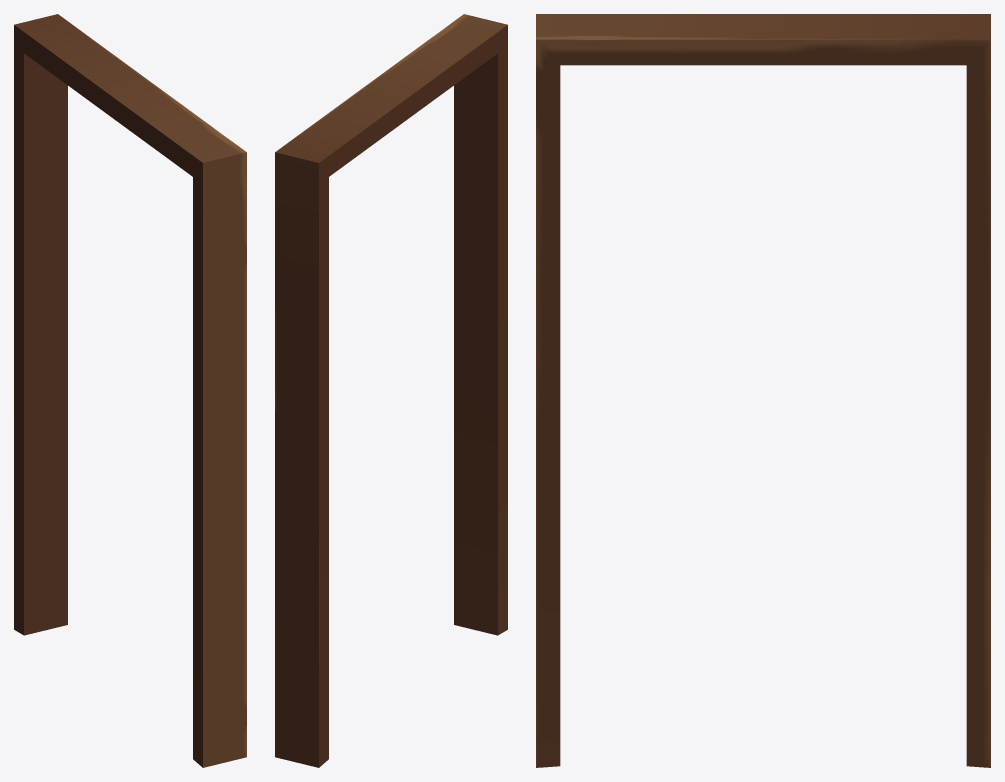
Rendered from doorframe.fbx.
3 renders of one model, left to right at view 1: azimuth 30°, elevation 25°; view 2: azimuth 150°, elevation 25°; view 3: azimuth 270°, elevation 25°, orthographic. The views are drawn at different scales.
Parts seen in each view (by area): view 1: pCube16; view 2: pCube16; view 3: pCube16.
Boxes of the visible parts, <box> form: pCube16: <box>14,14,246,767</box>; pCube16: <box>275,14,507,767</box>; pCube16: <box>536,14,990,767</box>.
Size of the model in its own units: 19.77 by 260 by 147.
